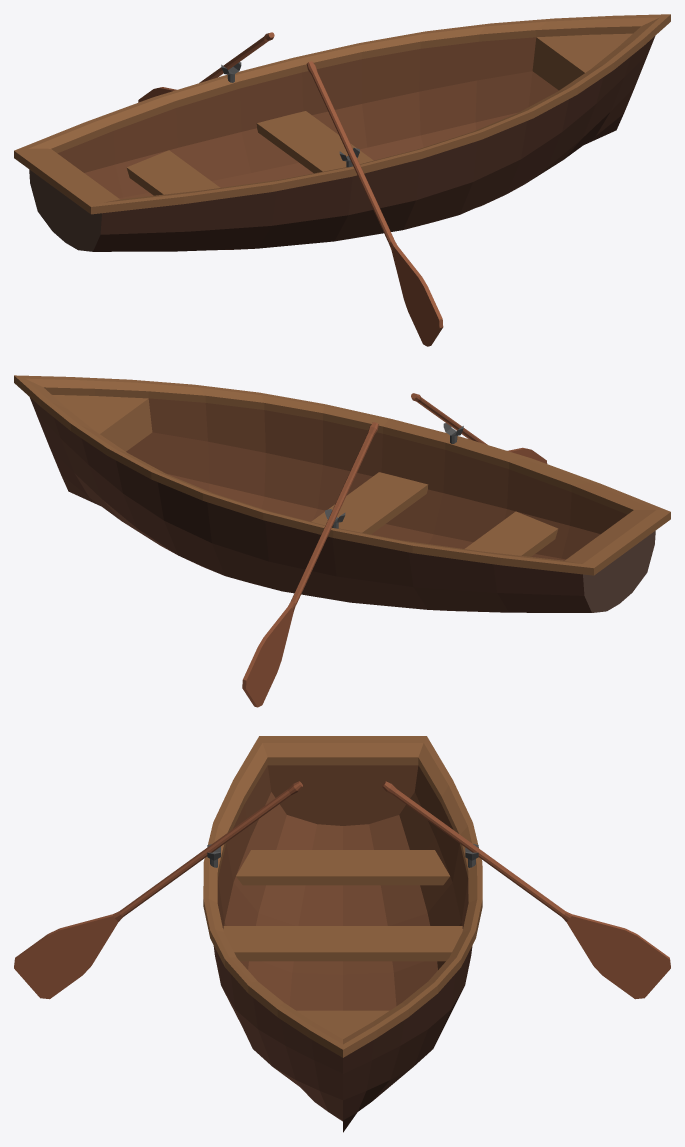
The model's file is rowboat.glb.
3 renders of one model, top to bottom at view 1: azimuth 30°, elevation 25°; view 2: azimuth 150°, elevation 25°; view 3: azimuth 270°, elevation 25°, orthographic. The views are drawn at different scales.
Visible parts, largest first — view 1: Boat, paddle, paddle.001; view 2: Boat, paddle.001, paddle; view 3: Boat, paddle, paddle.001.
Part boxes in pixels (x1,y1,x2,y2): Boat: (14, 14, 670, 251); paddle: (306, 61, 443, 346); paddle.001: (138, 32, 274, 102); Boat: (14, 375, 670, 612); paddle.001: (242, 422, 378, 707); paddle: (411, 393, 547, 463); Boat: (203, 736, 482, 1132); paddle: (14, 781, 302, 999); paddle.001: (382, 781, 670, 999).
Bounding box in the file's own units: 10.4 × 3.19 × 8.79.
Materials: 2 (2 with a texture image).
